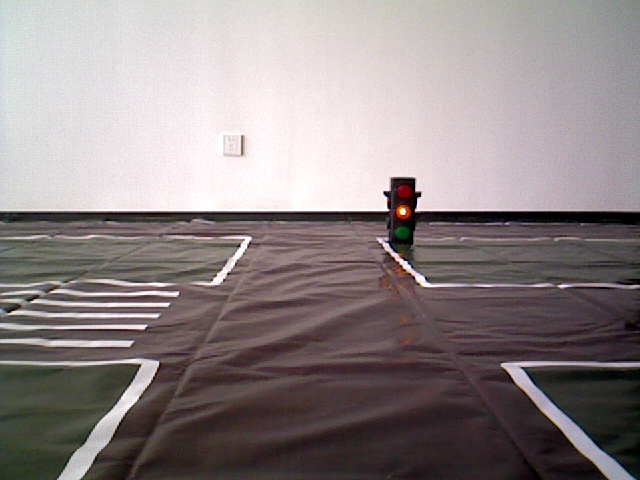yellow: (385, 175, 422, 245)
